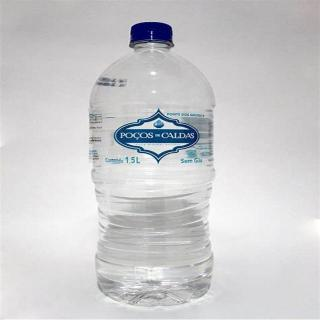Plastic-bottle: (77, 16, 231, 318)
